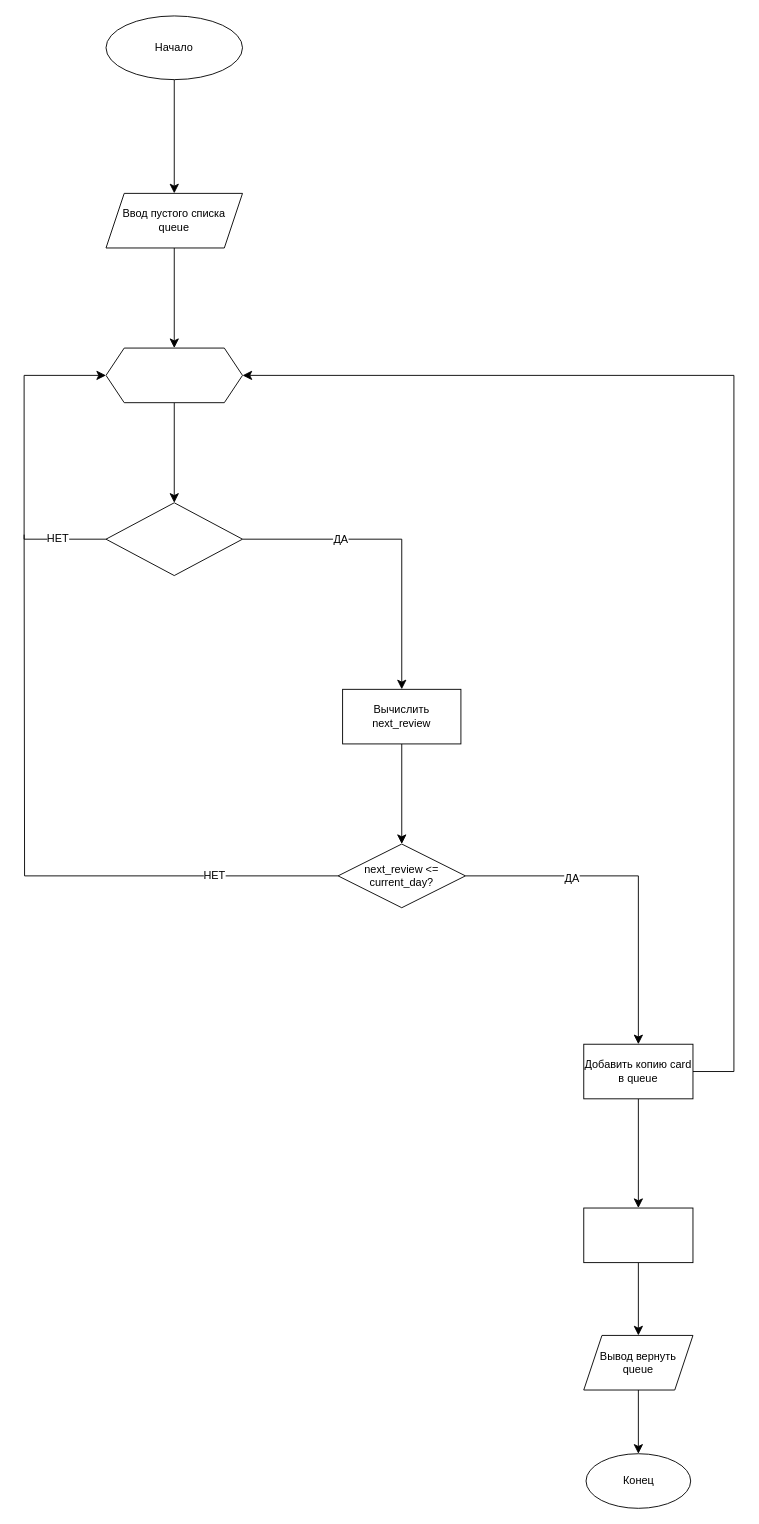
Image size: 759x1524. Some labels were removed from this diagram. Here are the shapes that lost their labels. From the top down, the centre of each, then its label:
At (174,375): "Для каждой card в cards".
At (174,539): "level в INTERVALS?".
At (638,1235): "Отсортировать queue по last_day".
